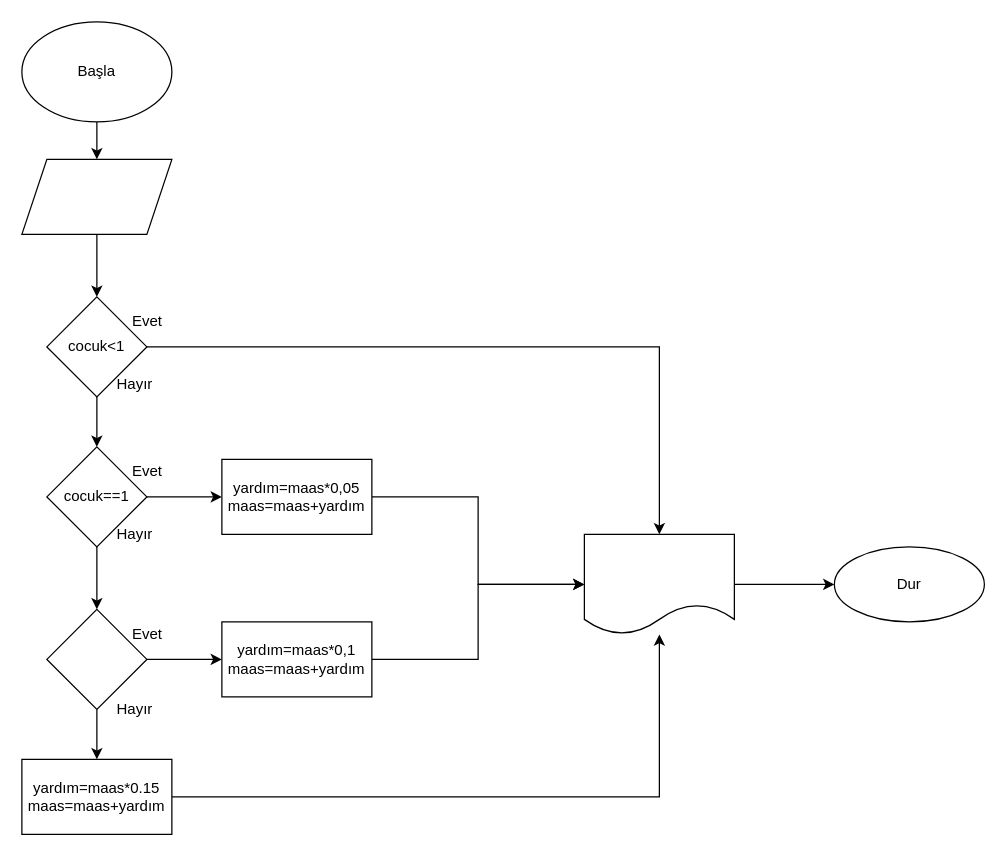
This 1006x856 diagram has some shape labels left out. Each missing label, with the box of its shape:
cocuk==2: (46, 608, 147, 709)
maas: (583, 533, 734, 634)
maas cocuk: (21, 158, 172, 234)
